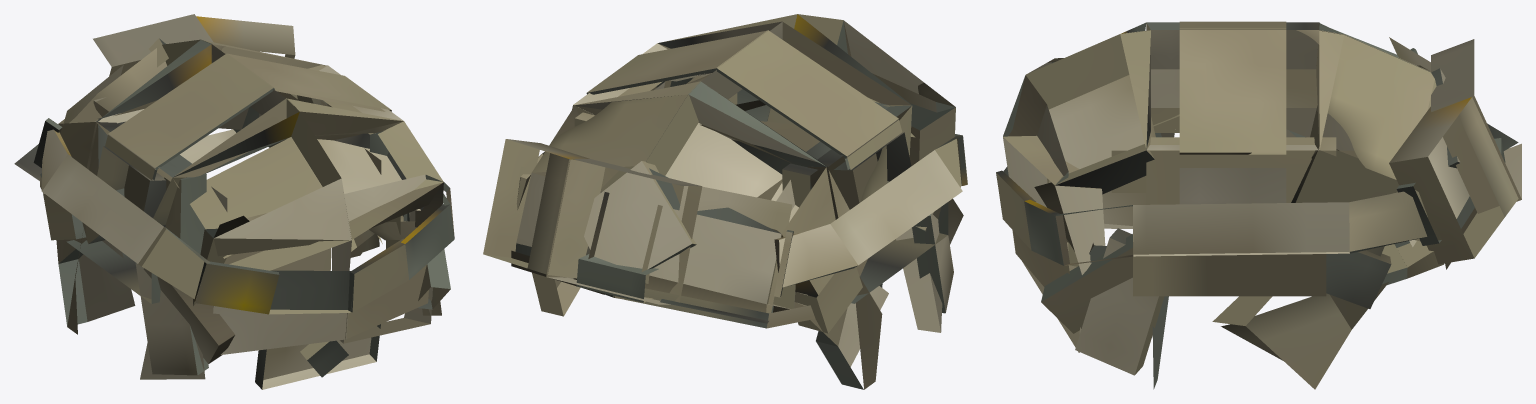
Rendered from ukrainian_mobilized_h.obj.
3 views of the same model, side by side, from view 1: azimuth 30°, elevation 25°; view 2: azimuth 150°, elevation 25°; view 3: azimuth 270°, elevation 25° (orthographic). The views are drawn at different scales.
Parts seen in each view (by area): view 1: cube; view 2: cube; view 3: cube.
Part boxes in pixels (x1,y1,x2,y2): cube: [14, 14, 454, 389]; cube: [483, 14, 967, 389]; cube: [996, 21, 1521, 389].
Bounding box in the file's own units: 0.7693 × 0.5973 × 0.9872.
